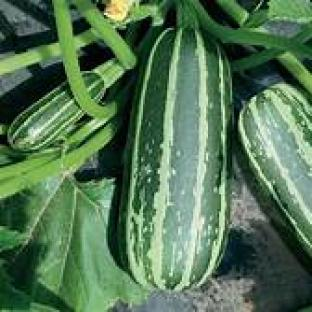Zucchini: (121, 29, 232, 289), (240, 83, 311, 255), (8, 83, 83, 151)
